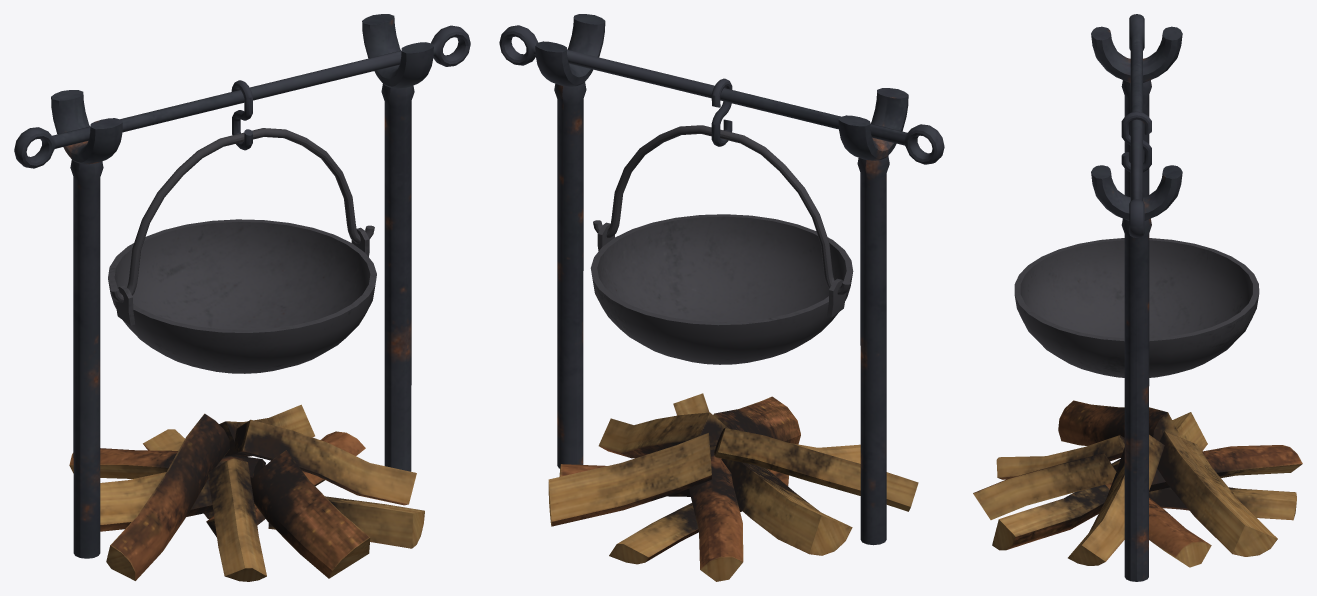
The model's file is sb_obj_outdoor035_bonfire02.fbx.
3 renders of one model, left to right at view 1: azimuth 30°, elevation 25°; view 2: azimuth 150°, elevation 25°; view 3: azimuth 270°, elevation 25°, orthographic. The views are drawn at different scales.
Parts seen in each view (by area): view 1: sb_obj_outdoor035_bonfire02; view 2: sb_obj_outdoor035_bonfire02; view 3: sb_obj_outdoor035_bonfire02.
Part boxes in pixels (x1=…): sb_obj_outdoor035_bonfire02: x1=14, y1=14, x2=470, y2=581; sb_obj_outdoor035_bonfire02: x1=499, y1=14, x2=944, y2=581; sb_obj_outdoor035_bonfire02: x1=973, y1=14, x2=1302, y2=581.
Size of the model in its own units: 0.8167 by 0.7715 by 0.5637.
